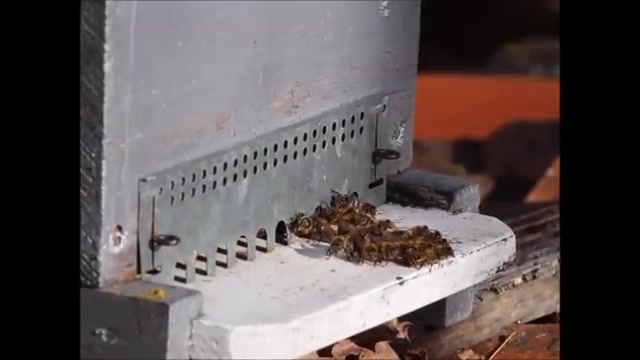bee: (342, 192, 366, 220), (400, 252, 436, 270), (292, 212, 316, 236), (362, 245, 388, 266), (403, 227, 431, 246), (364, 220, 395, 237), (329, 235, 352, 254)
